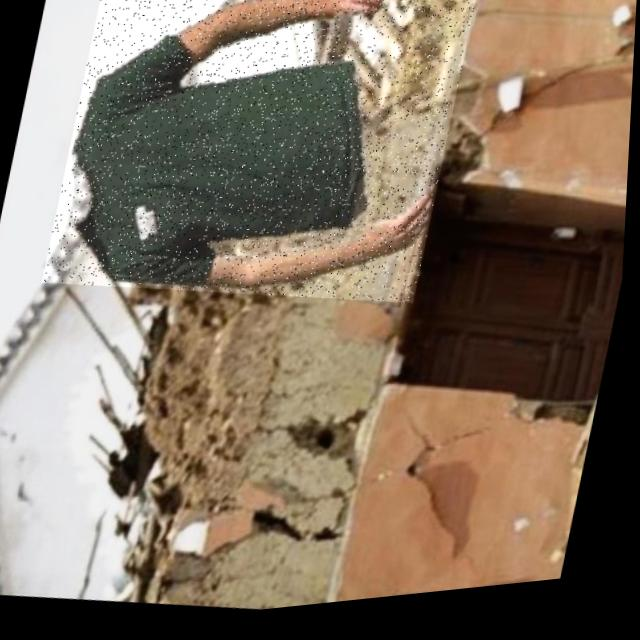Person in Rubble: (43, 0, 480, 341)
